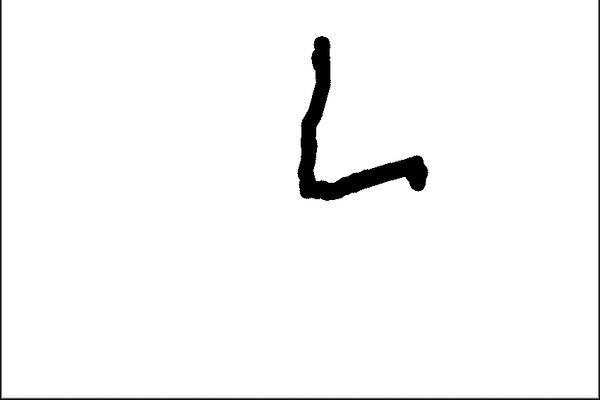L: (291, 28, 436, 206)
